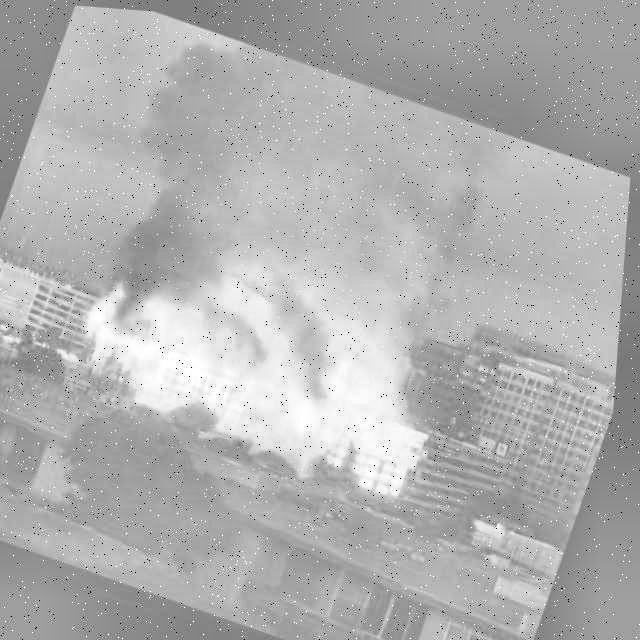Fire: (59, 268, 459, 507)
Smoke: (85, 11, 535, 387)
